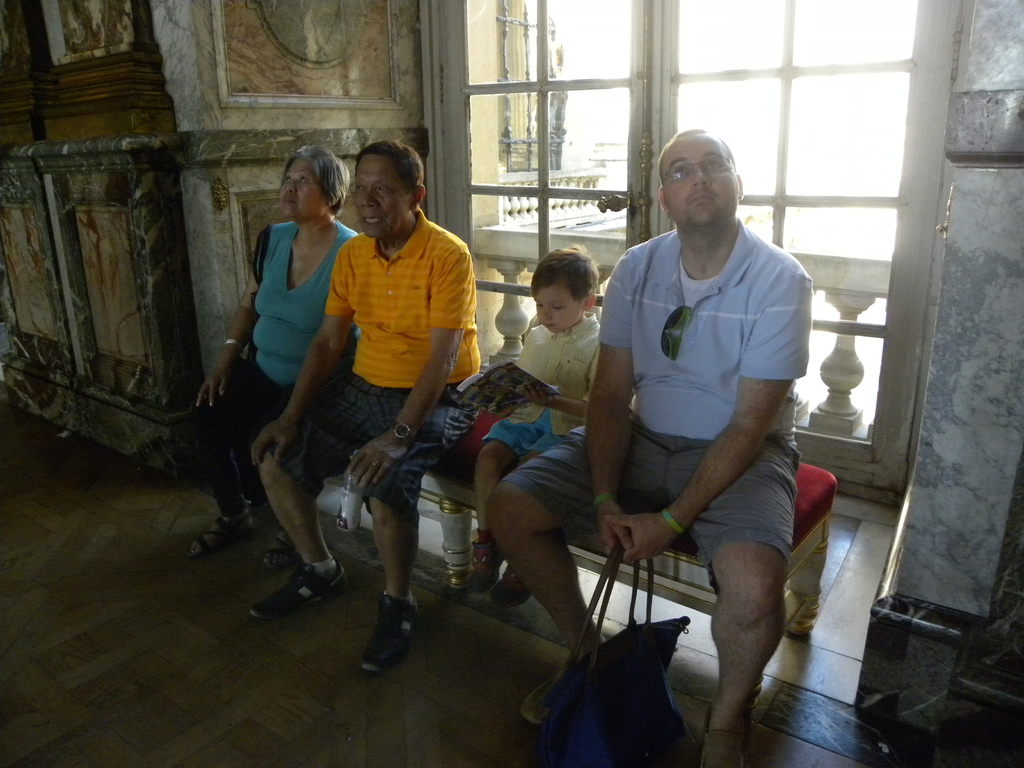Human_hand: (346, 431, 415, 492), (603, 510, 673, 567), (248, 415, 307, 467), (596, 495, 641, 557), (194, 363, 235, 410), (522, 384, 556, 412)
